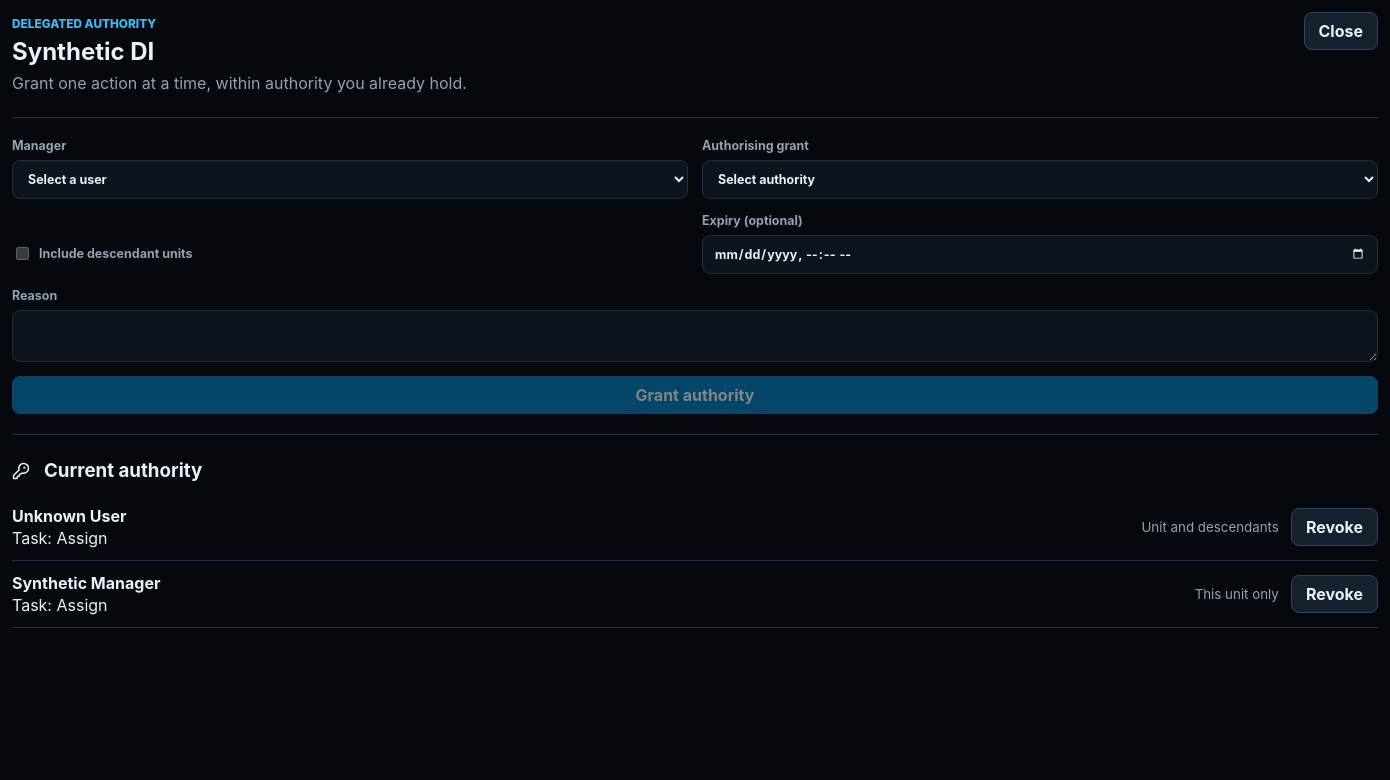
it: delegates the exact action and bounded scope held by the signed-in manager
The width and height of the screenshot is (1390, 780).
Select "Synthetic Manager" in the dropdown labelled "Manager": (350, 180) 12,160 -> 688,199
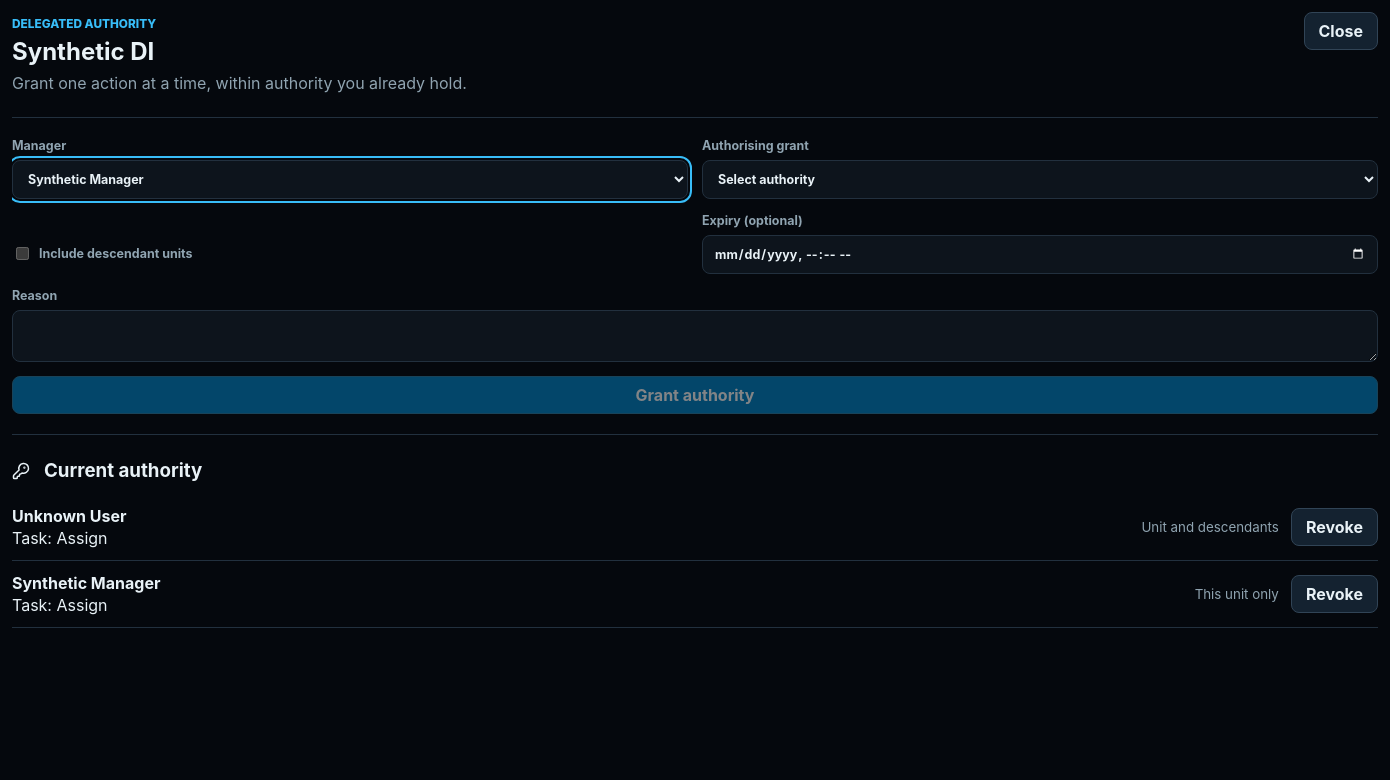
Select "task: assign" in the dropdown labelled "Authorising grant": (1040, 180) 702,160 -> 1378,199
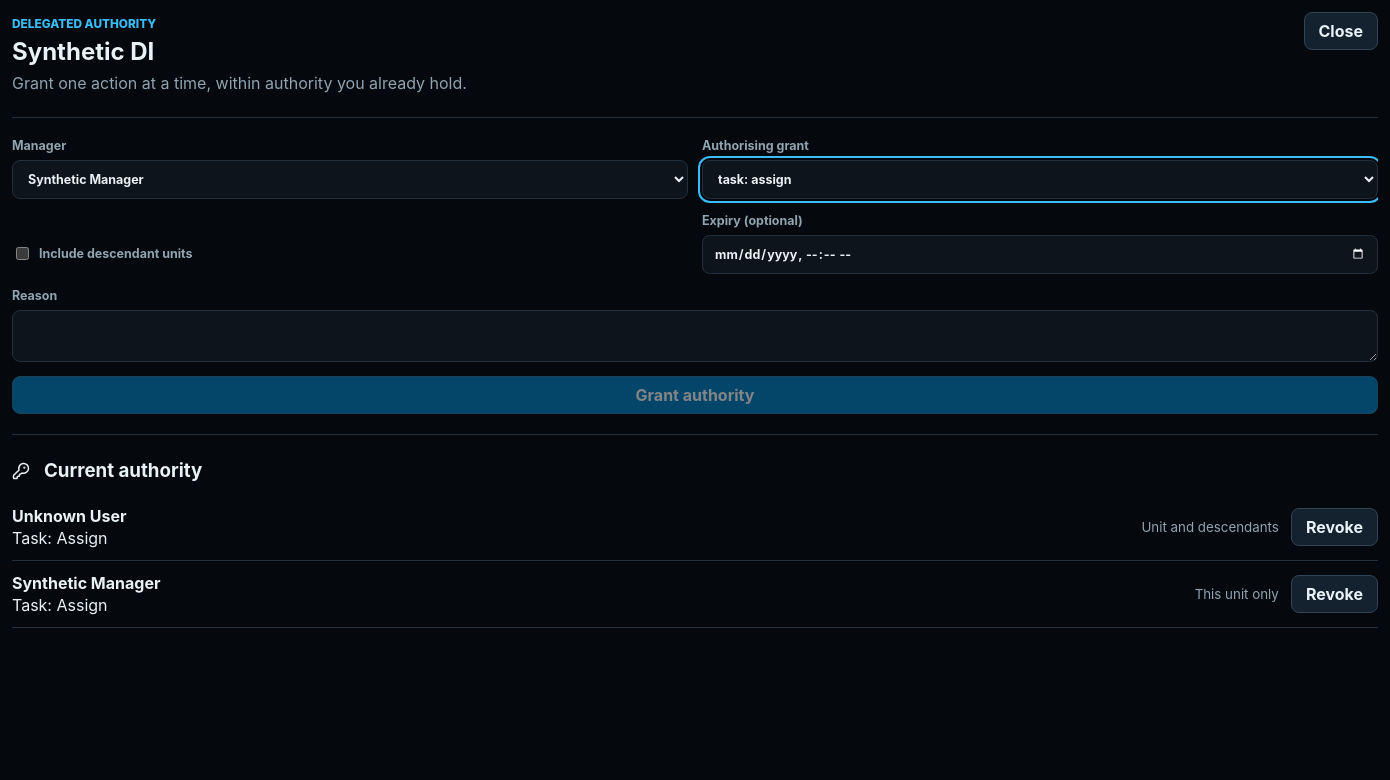
Click the checkbox labelled "Include descendant units": (22, 253) 16,246 -> 29,260
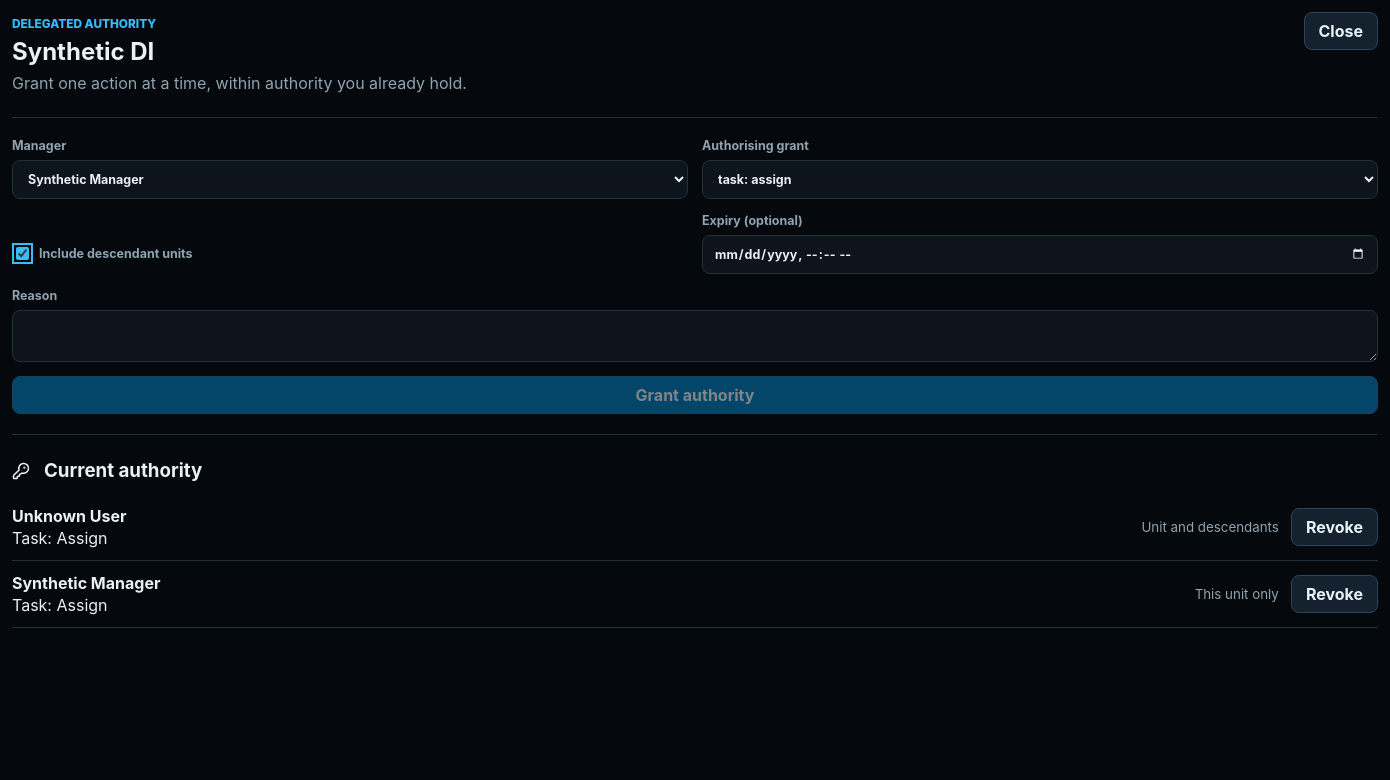
In the text box labelled "Reason": (695, 336) 12,310 -> 1378,362, type "Cover the synthetic tasking rota."
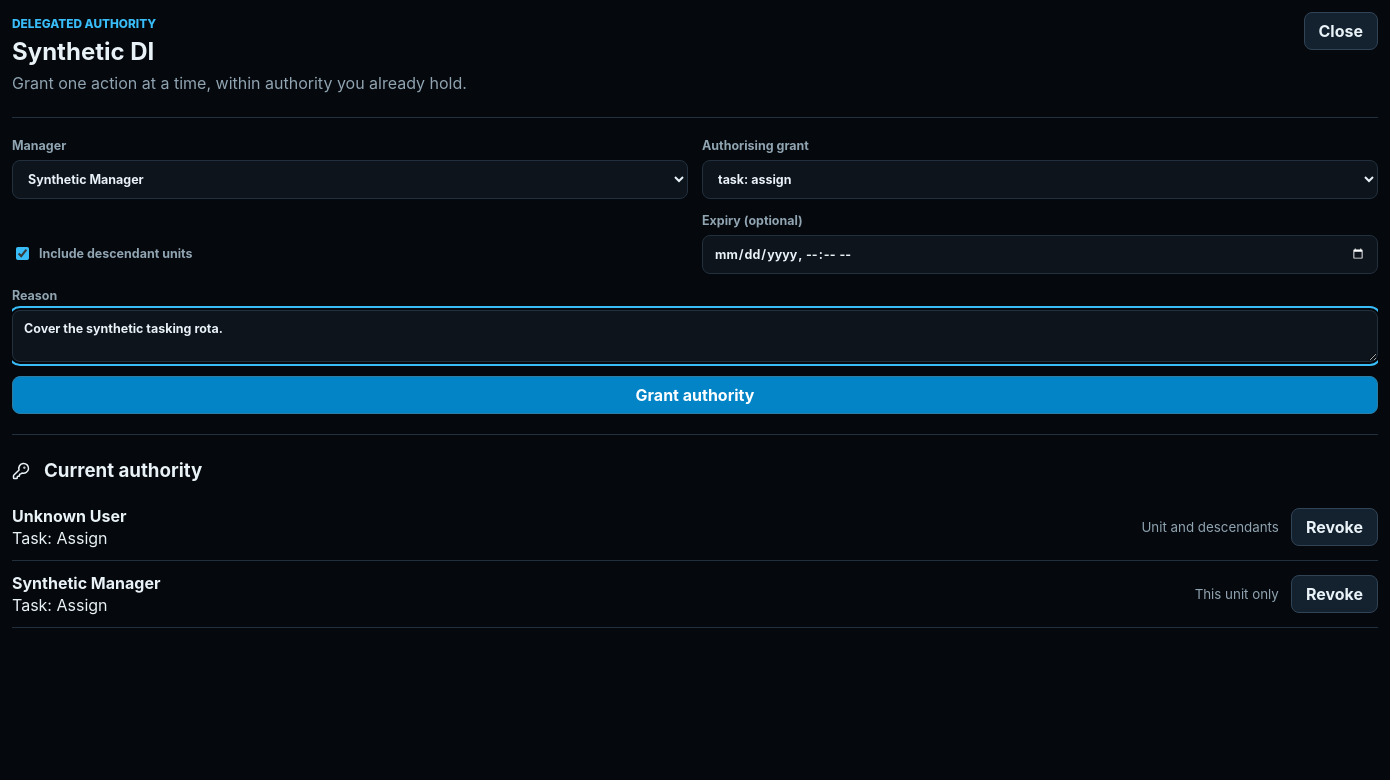
Click the button "Grant authority": (695, 395) 12,376 -> 1378,414
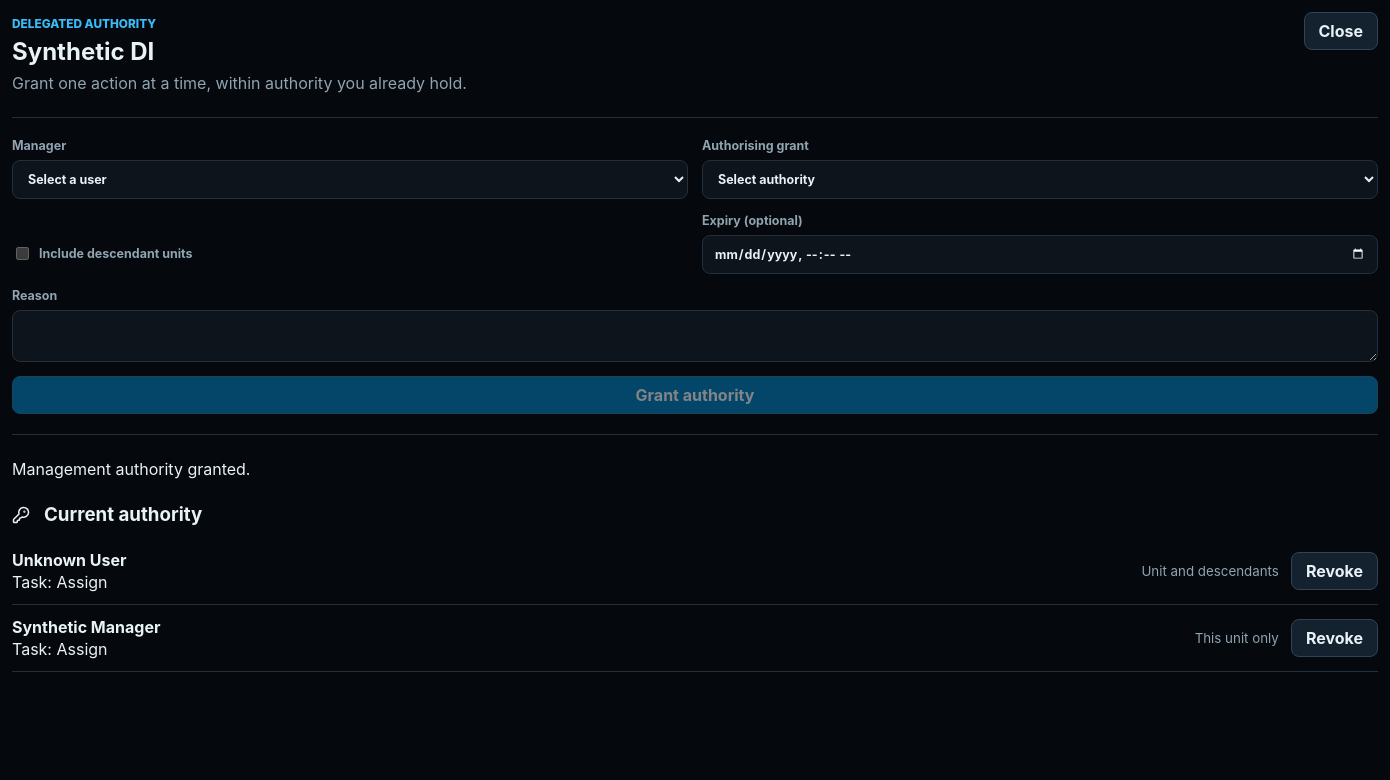
Expected: the text "Management authority granted." is shown, 12,459 -> 250,479
